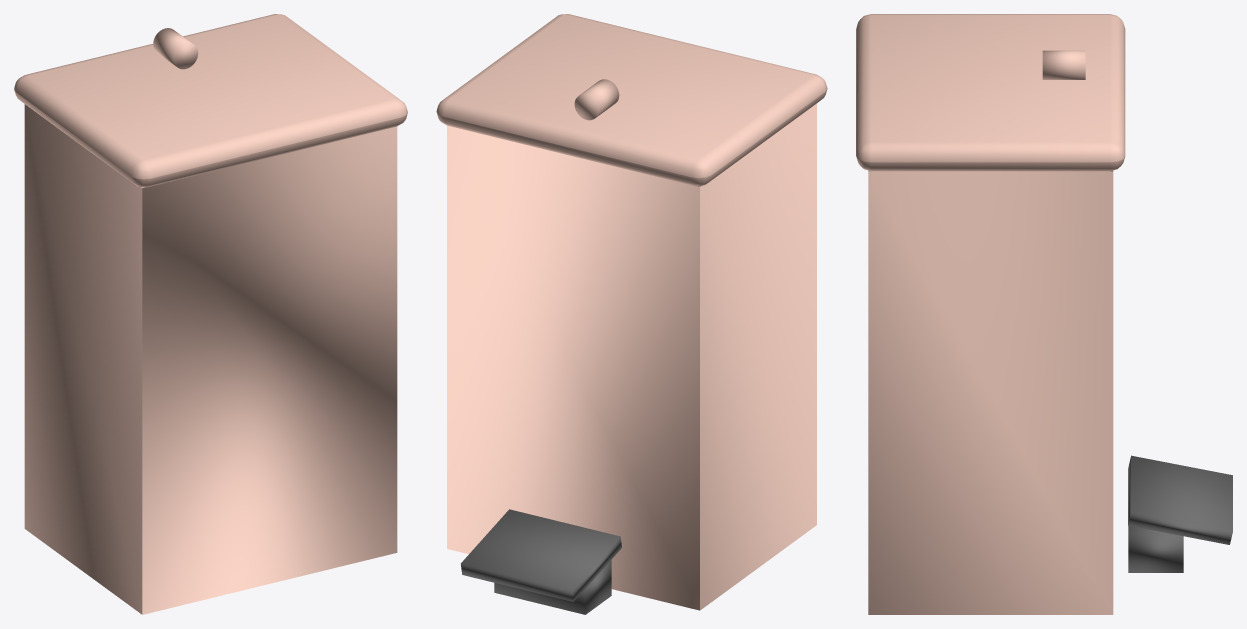
3 renders of one model, left to right at view 1: azimuth 30°, elevation 25°; view 2: azimuth 150°, elevation 25°; view 3: azimuth 270°, elevation 25°, orthographic. The views are drawn at different scales.
Parts seen in each view (by area): view 1: Trash_Can_Body, Lid; view 2: Trash_Can_Body, Lid, Pedal_Assembly; view 3: Trash_Can_Body, Lid, Pedal_Assembly.
Boxes of the visible parts, x1=… form: Trash_Can_Body: x1=24, y1=104, x2=397, y2=614; Lid: x1=14, y1=14, x2=407, y2=187; Trash_Can_Body: x1=447, y1=103, x2=816, y2=610; Lid: x1=436, y1=14, x2=827, y2=186; Pedal_Assembly: x1=460, y1=509, x2=621, y2=614; Trash_Can_Body: x1=868, y1=170, x2=1113, y2=614; Lid: x1=856, y1=14, x2=1125, y2=171; Pedal_Assembly: x1=1128, y1=455, x2=1232, y2=572.
Bounding box in the file's own units: 0.27 × 0.449 × 0.3078.
